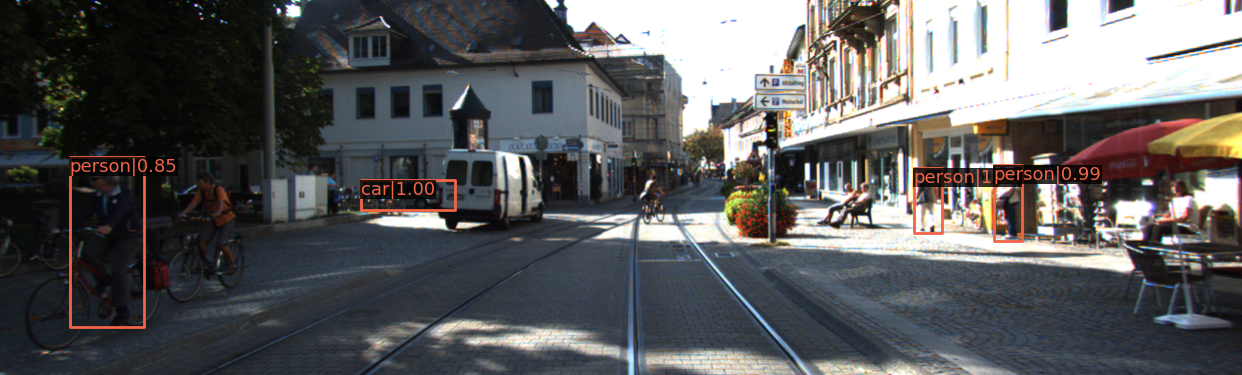car: (363, 181, 450, 211)
person: (992, 166, 1026, 242), (915, 168, 942, 235)
